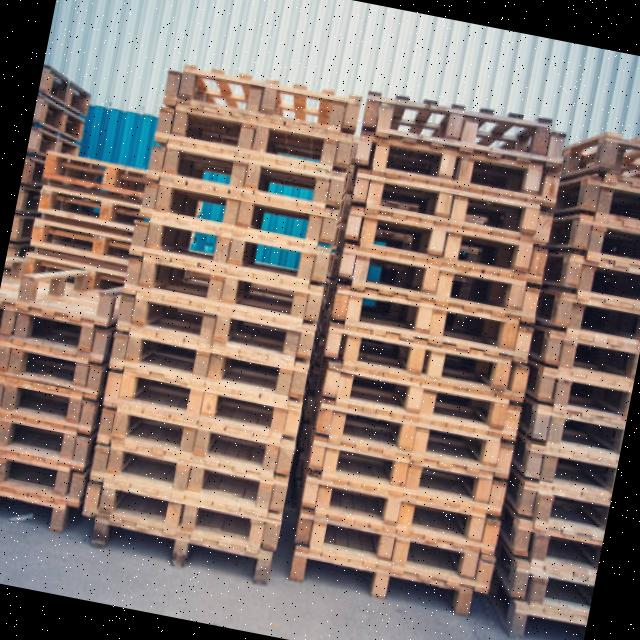Wooden-Pallets: (376, 89, 566, 170), (150, 126, 330, 204), (114, 364, 287, 442), (162, 100, 338, 175), (140, 210, 312, 286), (106, 440, 276, 516), (127, 293, 301, 367), (95, 486, 268, 553)
